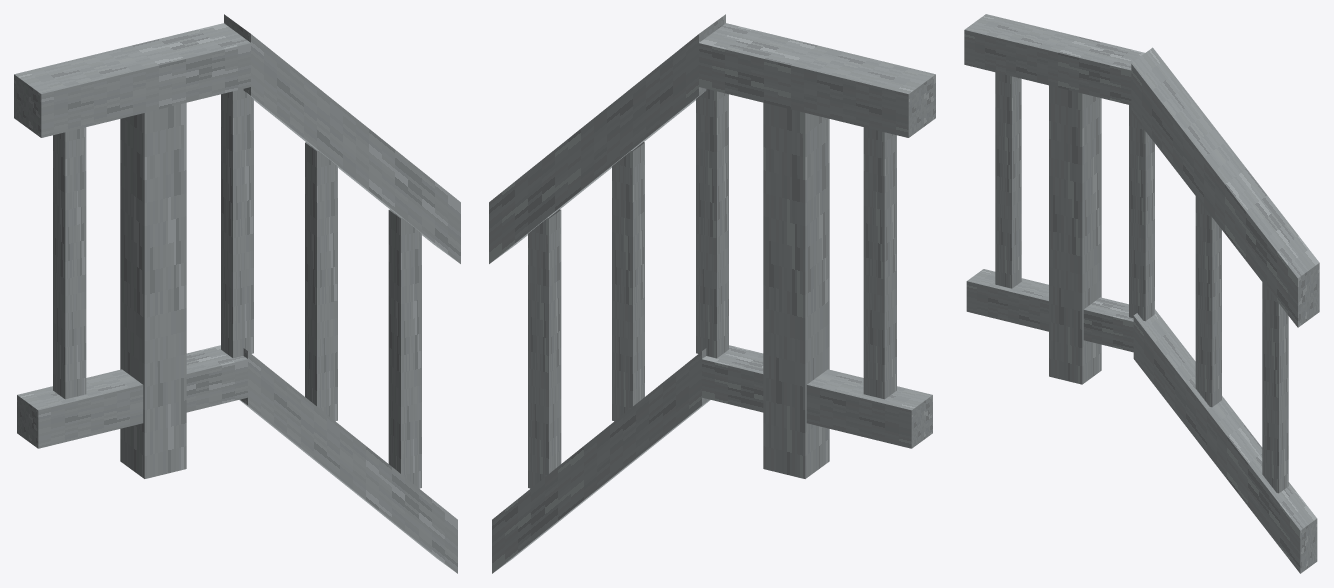
The model's file is top_neg.obj.
The picture shows the model from 3 angles, left to right: view 1: azimuth 30°, elevation 25°; view 2: azimuth 150°, elevation 25°; view 3: azimuth 330°, elevation 25°; orthographic projection. The views are drawn at different scales.
Parts seen in each view (by area): view 1: railing_picket_galvanized_top_neg; view 2: railing_picket_galvanized_top_neg; view 3: railing_picket_galvanized_top_neg.
Boxes of the visible parts, x1,y1,x2,y2 form: railing_picket_galvanized_top_neg: (14, 14, 460, 573); railing_picket_galvanized_top_neg: (489, 14, 935, 573); railing_picket_galvanized_top_neg: (964, 14, 1319, 573).
Size of the model in its own units: 1 by 1.35 by 0.1125.
